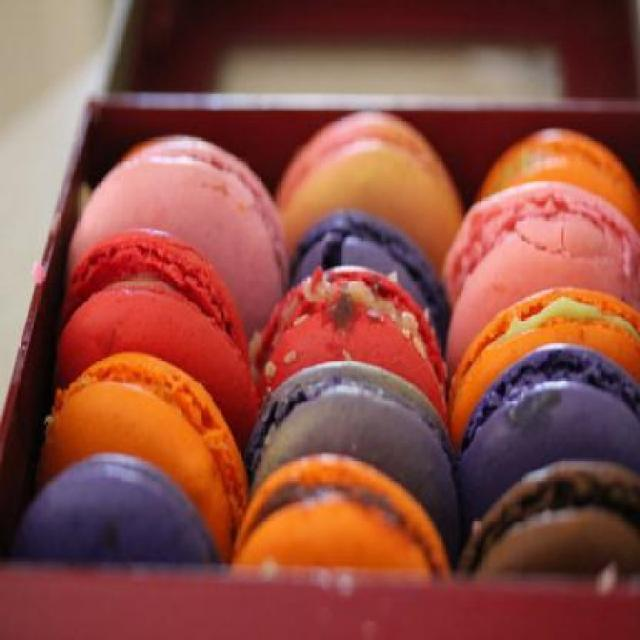Macaron: (24, 107, 638, 591)
